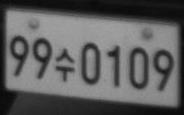0: (128, 46, 149, 90), (80, 41, 101, 84)
1: (104, 43, 126, 86)
9: (152, 48, 174, 91), (31, 36, 52, 78), (9, 34, 29, 76)
수: (55, 46, 75, 82)
